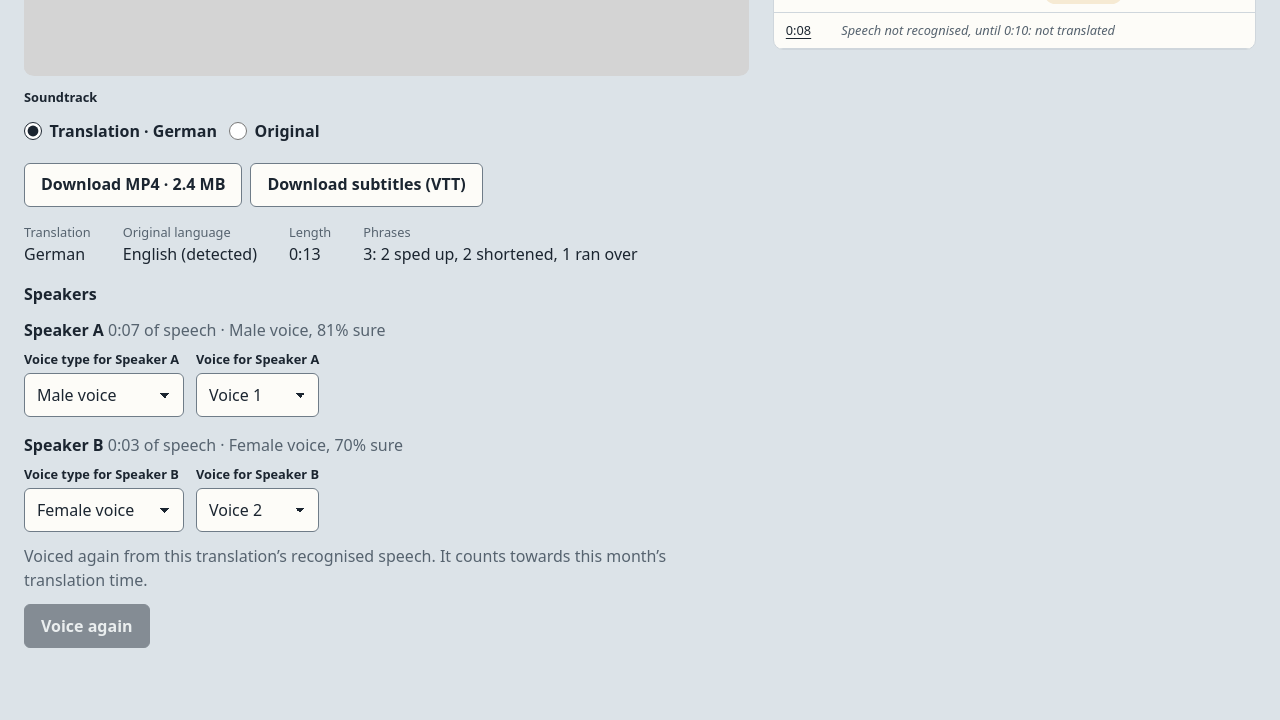
Test case: dub speakers › says so when the month’s translation time has run out
This screenshot has width=1280, height=720.
(page scrolled)
Select "Voice 4" in the dropdown labelled "Voice for Speaker A": x=258, y=395 196,373 -> 319,417
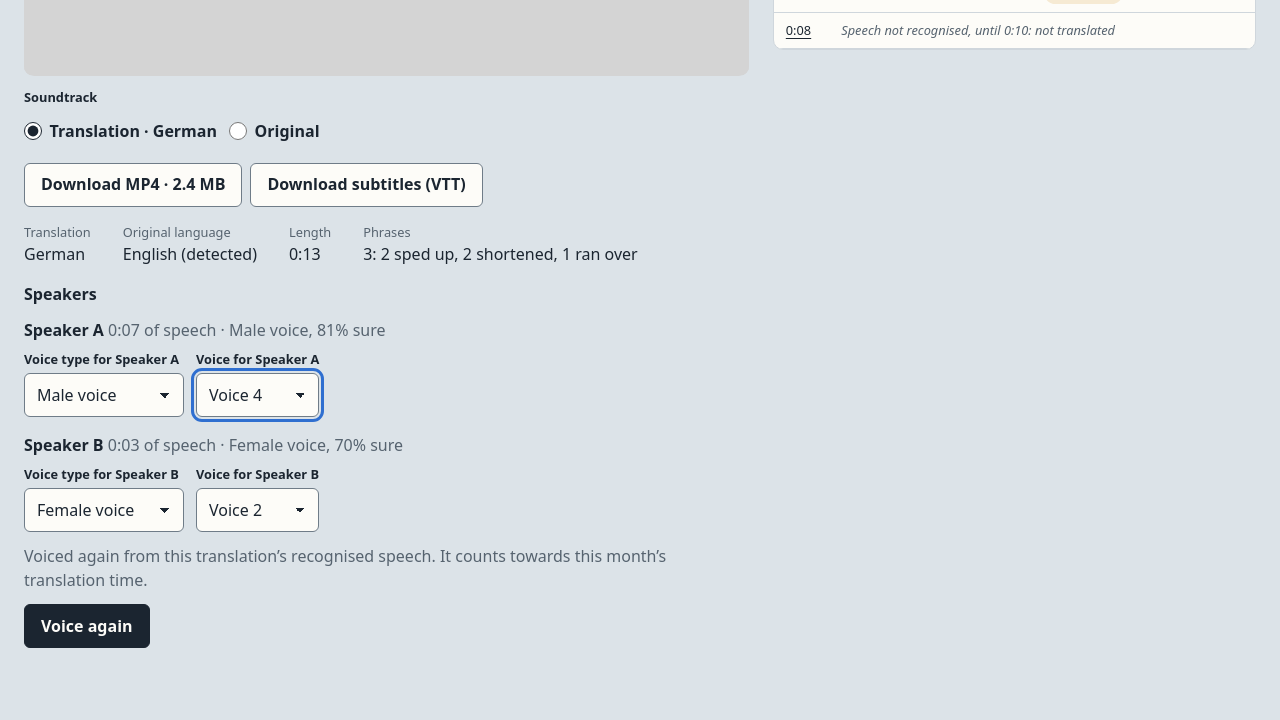
Click the button "Voice again": x=87, y=626 24,604 -> 150,648
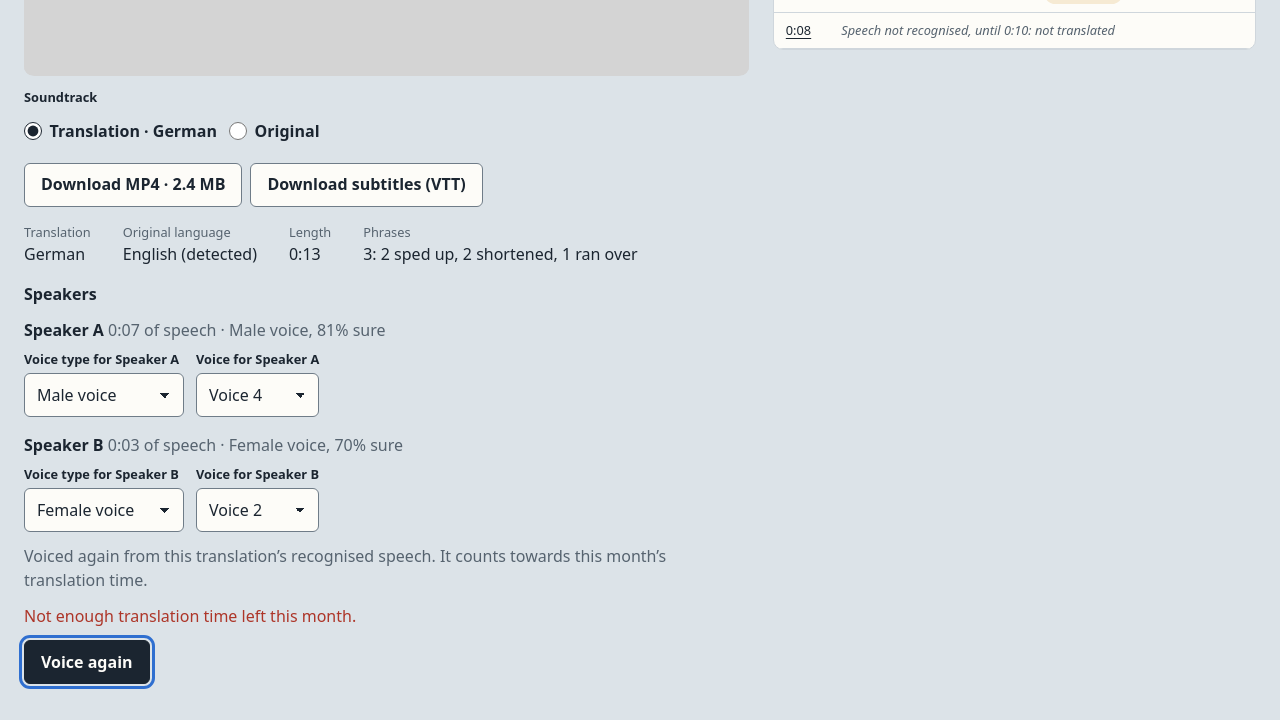
Expected: the message reads "Not enough translation time left this month.", 24,605 -> 356,627
